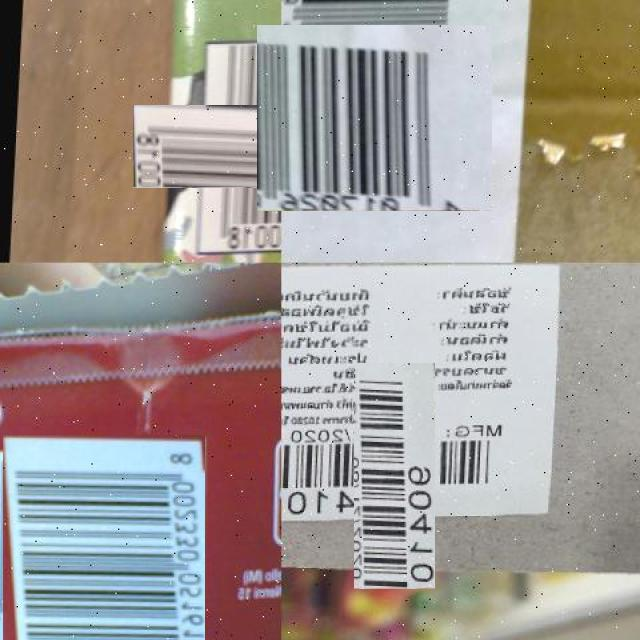Barcode: (269, 12, 479, 224), (1, 437, 205, 640), (317, 399, 471, 553), (165, 72, 314, 221)
